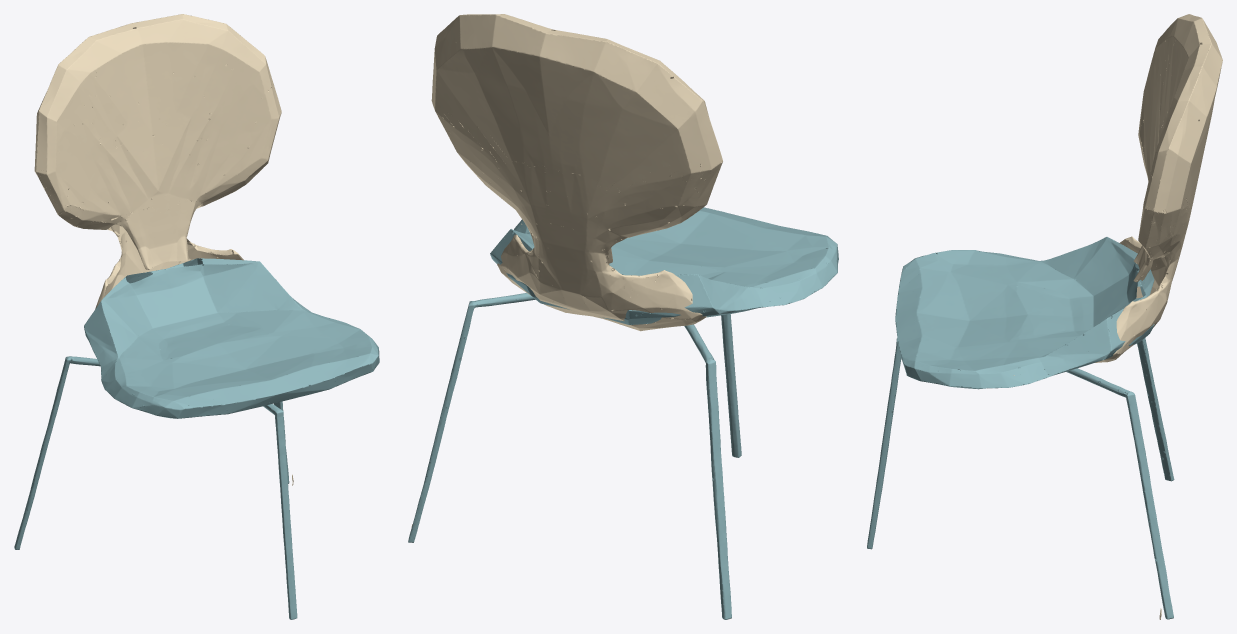
The model's file is round-chair.glb.
The picture shows the model from 3 angles, left to right: view 1: azimuth 30°, elevation 25°; view 2: azimuth 150°, elevation 25°; view 3: azimuth 270°, elevation 25°; orthographic projection. The views are drawn at different scales.
Visible parts, largest first — view 1: Part 02, Part 01; view 2: Part 02, Part 01; view 3: Part 01, Part 02.
Boxes of the visible parts, x1,y1,x2,y2 form: Part 02: [34, 14, 293, 485]; Part 01: [14, 258, 379, 619]; Part 02: [411, 14, 722, 526]; Part 01: [408, 207, 838, 619]; Part 01: [867, 237, 1174, 619]; Part 02: [1013, 14, 1222, 619].
Size of the model in its own units: 0.6005 by 1 by 0.6365.
